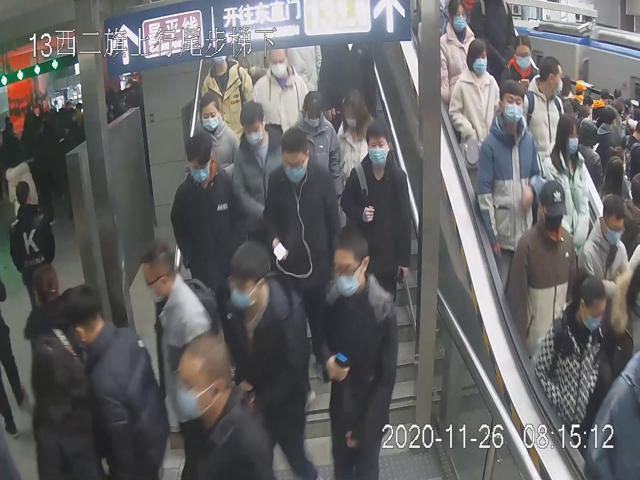person: (222, 239, 322, 480), (263, 125, 340, 403), (314, 236, 399, 480), (476, 78, 542, 298), (342, 123, 412, 316), (508, 182, 577, 365), (166, 132, 240, 298), (225, 100, 287, 235), (445, 35, 502, 169), (541, 113, 590, 255), (249, 45, 308, 131), (290, 88, 339, 189), (187, 91, 239, 182), (334, 89, 379, 190)
